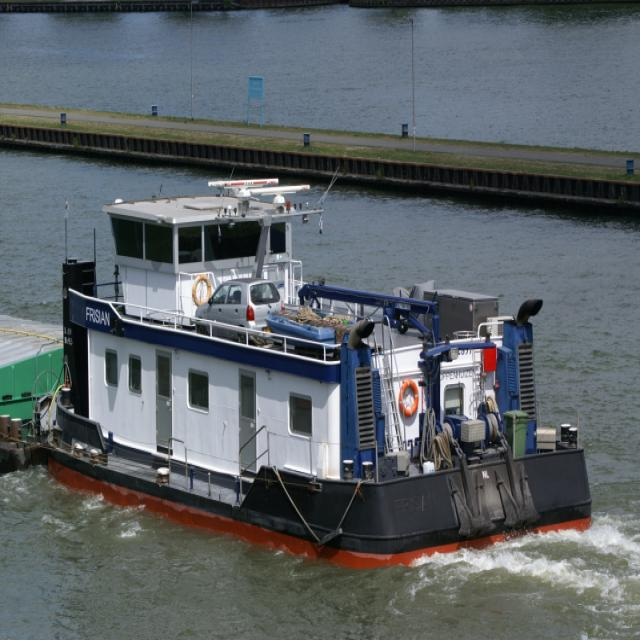tugboat: (19, 170, 599, 583)
